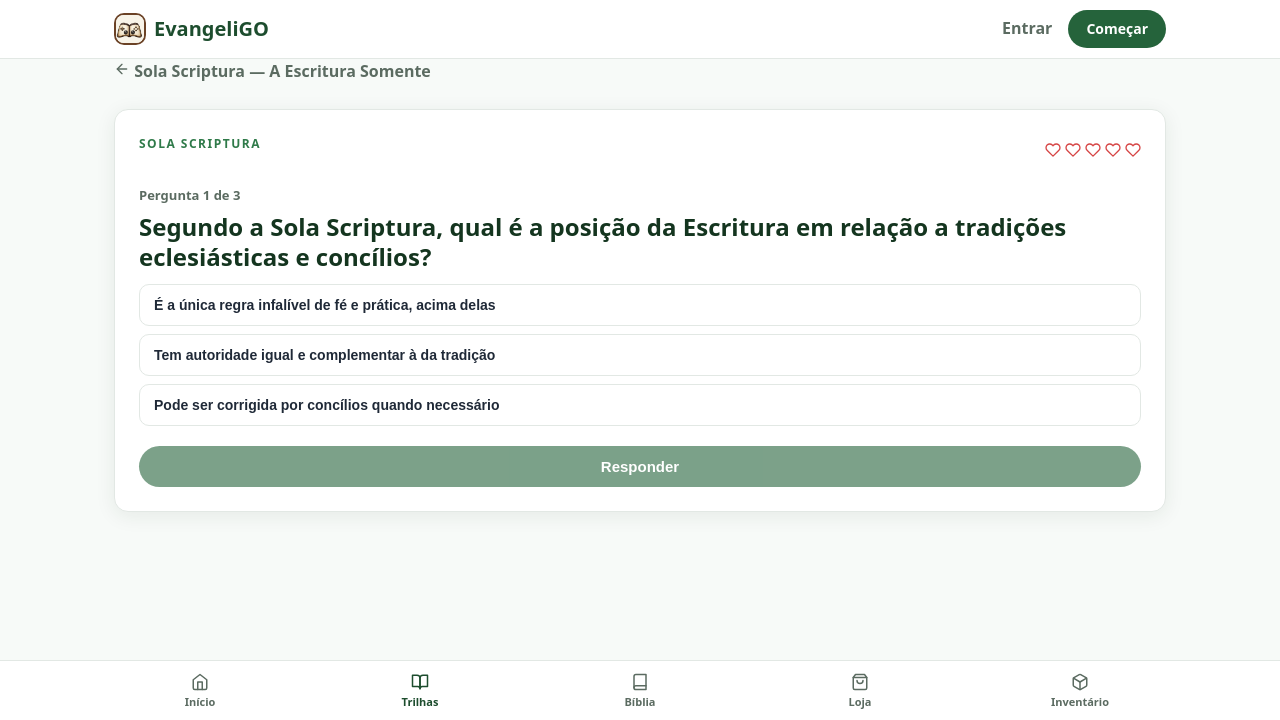
Test: QuizPage › responder corretamente mostra feedback de acerto com explicação e referência
This screenshot has width=1280, height=720.
Click the radio button labelled "É a única regra infalível de fé e prática, acima delas" at (325, 305), box top-left (139, 284), bottom-right (1141, 326)
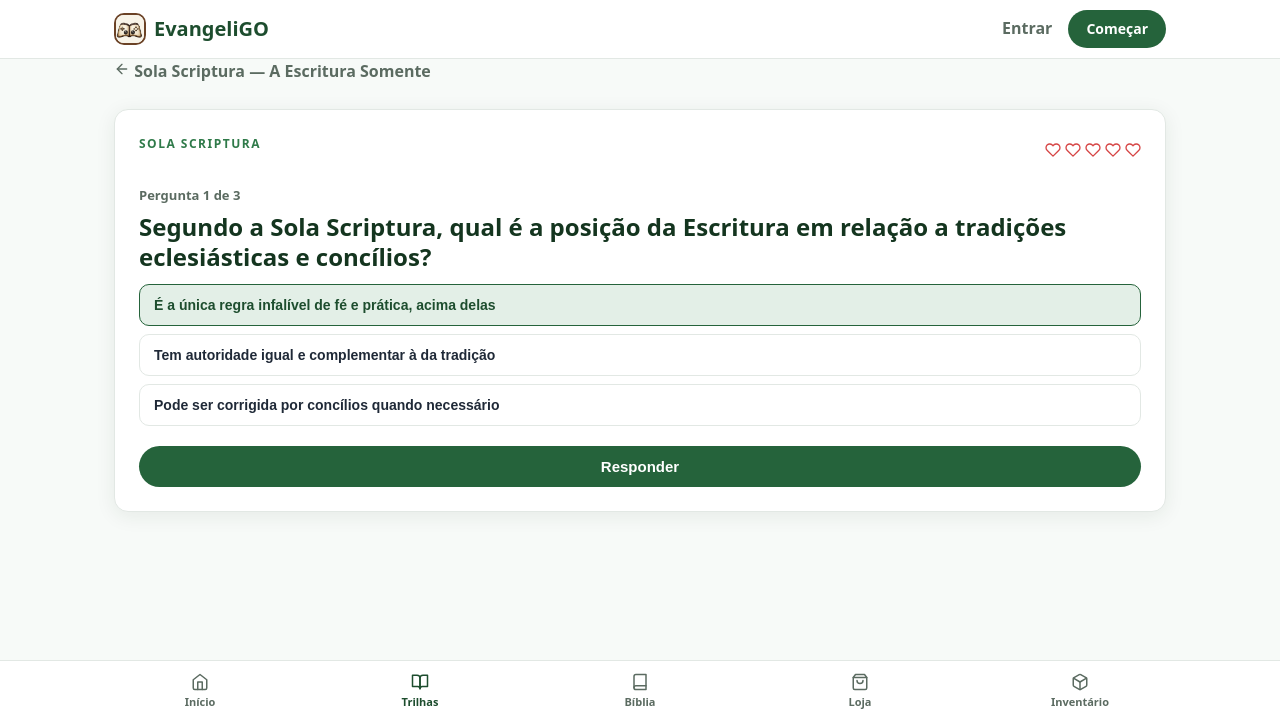
Click the button "Responder" at (640, 466), box top-left (139, 446), bottom-right (1141, 487)
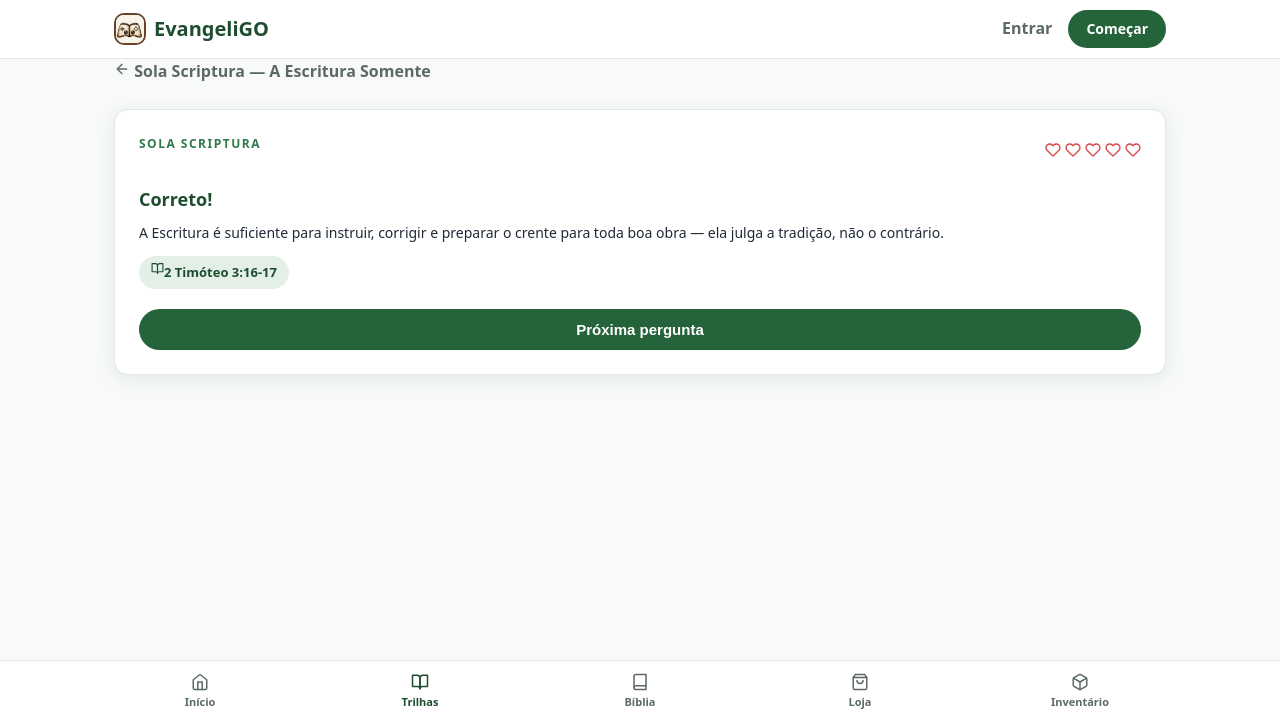
Check: the text "Correto!" is shown, box top-left (139, 187), bottom-right (212, 211)
Check: the text "2 Timóteo 3:16-17" is shown, box top-left (139, 256), bottom-right (289, 289)
